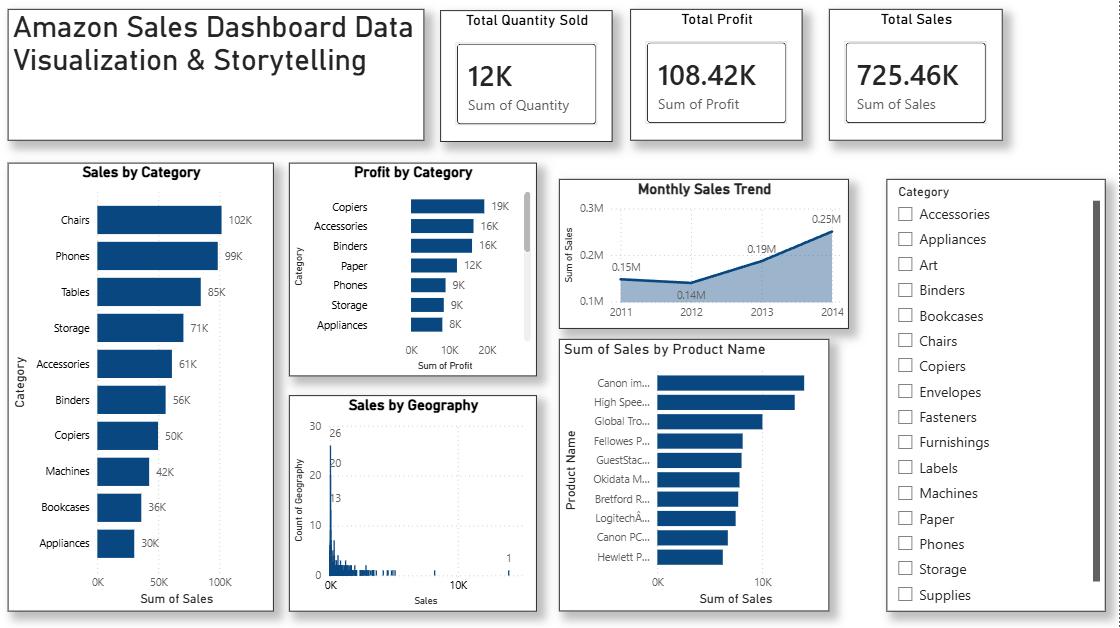

What the dashboard file says about the page in this screenshot:
{"tool":"powerbi","page":{"name":"Page 1","canvas":[1280,720],"ordinal":0},"visuals":[{"type":"cardVisual","title":"Total Profit","fields":{"Data":["Sum(Walmart.Profit)"]},"box":[721.4,11.4,197.1,150],"z":0},{"type":"cardVisual","title":"Total Sales","fields":{"Data":["Sum(Walmart.Sales)"]},"box":[948.6,11.4,198.6,150],"z":1000},{"type":"cardVisual","title":"Total Quantity Sold","fields":{"Data":["Sum(Walmart.Quantity)"]},"box":[504.3,12.9,197.1,150],"z":2000},{"type":"clusteredBarChart","title":"Sales by Category","fields":{"Category":["Walmart.Category"],"Y":["Sum(Walmart.Sales)"]},"box":[10,187.1,304.3,512.9],"z":3000},{"type":"clusteredBarChart","title":"Profit by Category","fields":{"Category":["Walmart.Category"],"Y":["Sum(Walmart.Profit)"]},"box":[331.4,187.1,282.9,244.3],"z":4000},{"type":"lineChart","title":"Monthly Sales Trend","fields":{"Category":["Walmart.Order Date.Variation.Date Hierarchy.Year","Walmart.Order Date.Variation.Date Hierarchy.Quarter","Walmart.Order Date.Variation.Date Hierarchy.Month","Walmart.Order Date.Variation.Date Hierarchy.Day"],"Y":["Sum(Walmart.Sales)"]},"box":[640,205.7,331.4,171.4],"z":4001},{"type":"clusteredColumnChart","title":"Sales by Geography","fields":{"Category":["Walmart.Sales"],"Y":["CountNonNull(Walmart.Geography)"]},"box":[331.4,452.9,282.9,247.1],"z":4002},{"type":"clusteredBarChart","fields":{"Y":["Sum(Walmart.Sales)"],"Category":["Walmart.Product Name"]},"box":[640,388.6,308.6,311.4],"z":4003},{"type":"slicer","fields":{"Values":["Walmart.Category"]},"box":[1014.3,205.7,250,494.3],"z":4004},{"type":"textbox","title":"Amazon Sales Dashboard Data Visualization & Storytelling","box":[10,11.4,475.7,150],"z":4005}]}

Visuals, with their boxes in screenshot pixels (x1, y1, x2, y2), scaled from the page's 1280x720 canvas onto the 1120x628 screenshot:
"Total Profit" cardVisual: [631, 10, 804, 141]
"Total Sales" cardVisual: [830, 10, 1004, 141]
"Total Quantity Sold" cardVisual: [441, 11, 614, 142]
"Sales by Category" clusteredBarChart: [9, 163, 275, 611]
"Profit by Category" clusteredBarChart: [290, 163, 538, 376]
"Monthly Sales Trend" lineChart: [560, 179, 850, 329]
"Sales by Geography" clusteredColumnChart: [290, 395, 538, 611]
clusteredBarChart - Sum(Walmart.Sales) x Walmart.Product Name: [560, 339, 830, 611]
slicer - Walmart.Category: [888, 179, 1106, 611]
"Amazon Sales Dashboard Data Visualization & Storytelling" textbox: [9, 10, 425, 141]
